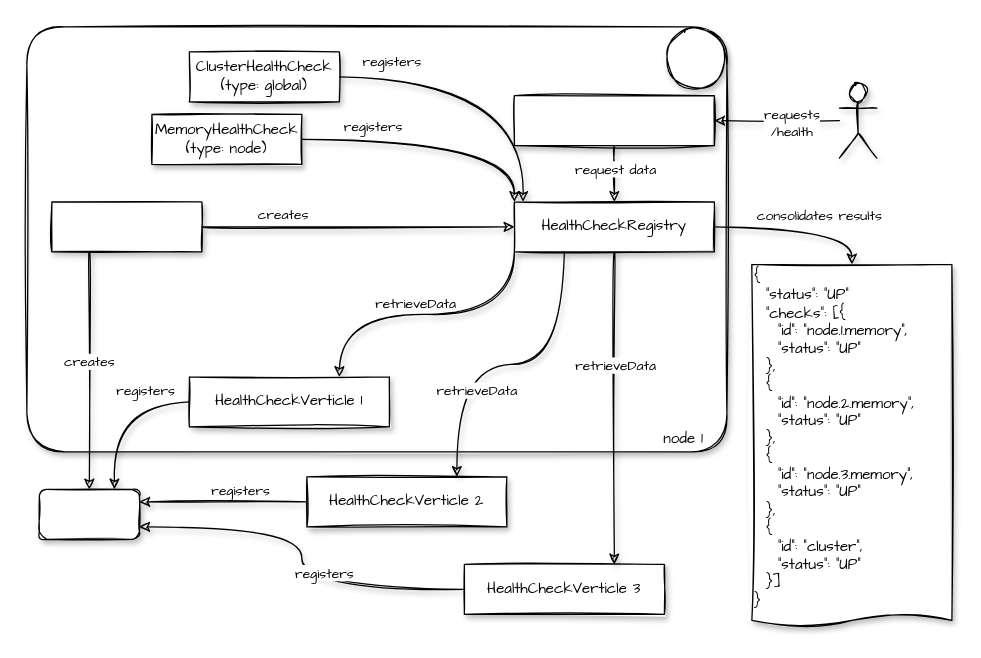
Some shapes in this 981 by 658 pixel diagram are drawn without their labels. Each missing label, with the centre of its shape:
"HealthEndpointHandler" belongs at [615,121].
"NeonBee" belongs at [127,228].
"shared map" belongs at [90,515].
"WEB profile" belongs at [696,59].
